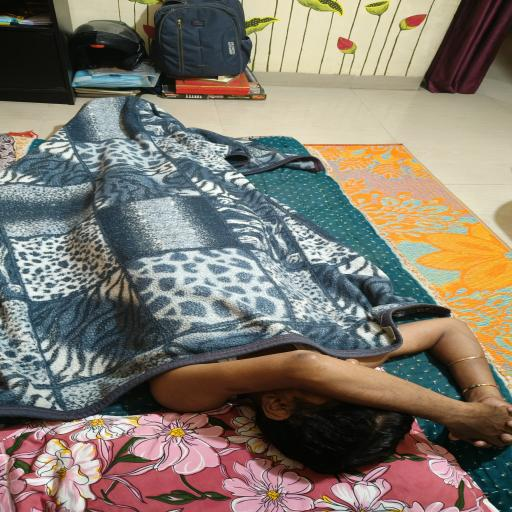survivor: (0, 96, 512, 476)
